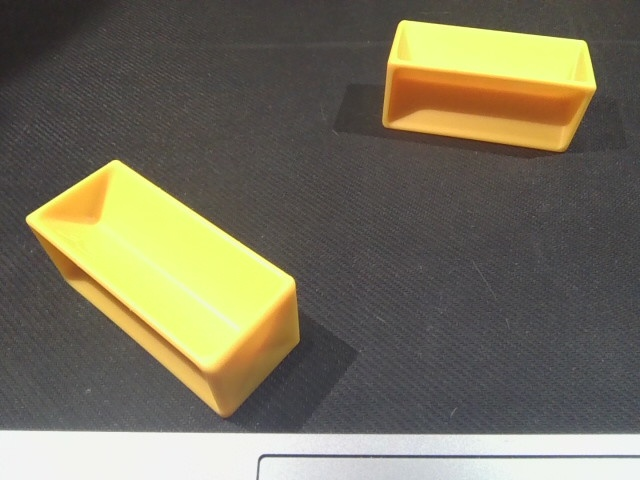YellowSample: (21, 158, 320, 422), (379, 15, 598, 163)
